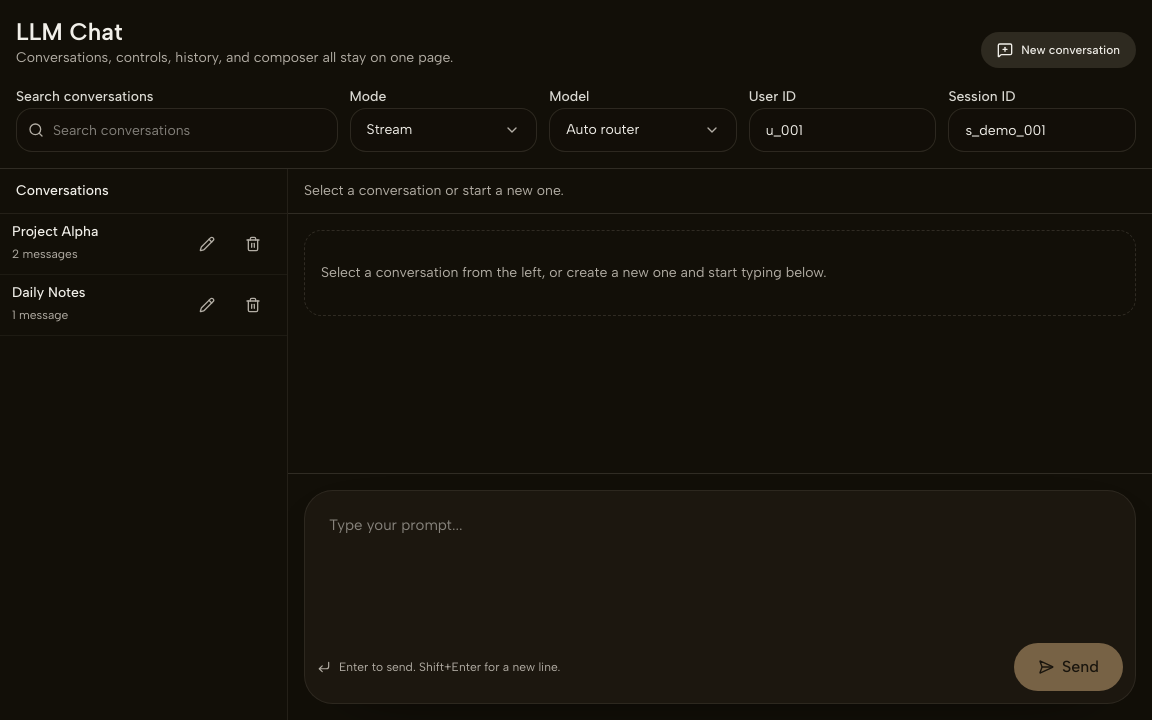
Scenario: App conversation workspace › creates, renames, selects, and deletes conversations from the sidebar
Expected: the text "Project Alpha" is shown, [12,223,98,240]
Click the button "New conversation": (1059, 50) [981,32,1136,68]
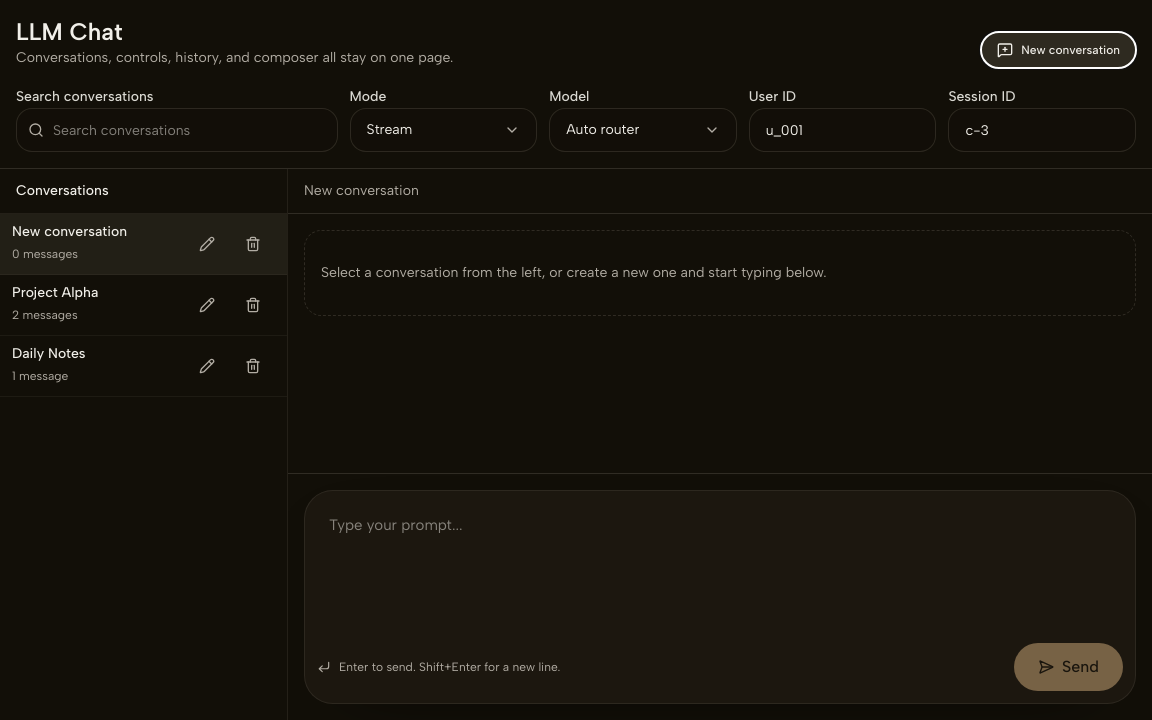
Now the button with aria-label "Open New conversation" is shown, box [12,222,177,262]
Click the button named "rename New conversation": (207, 244) [185,222,229,266]
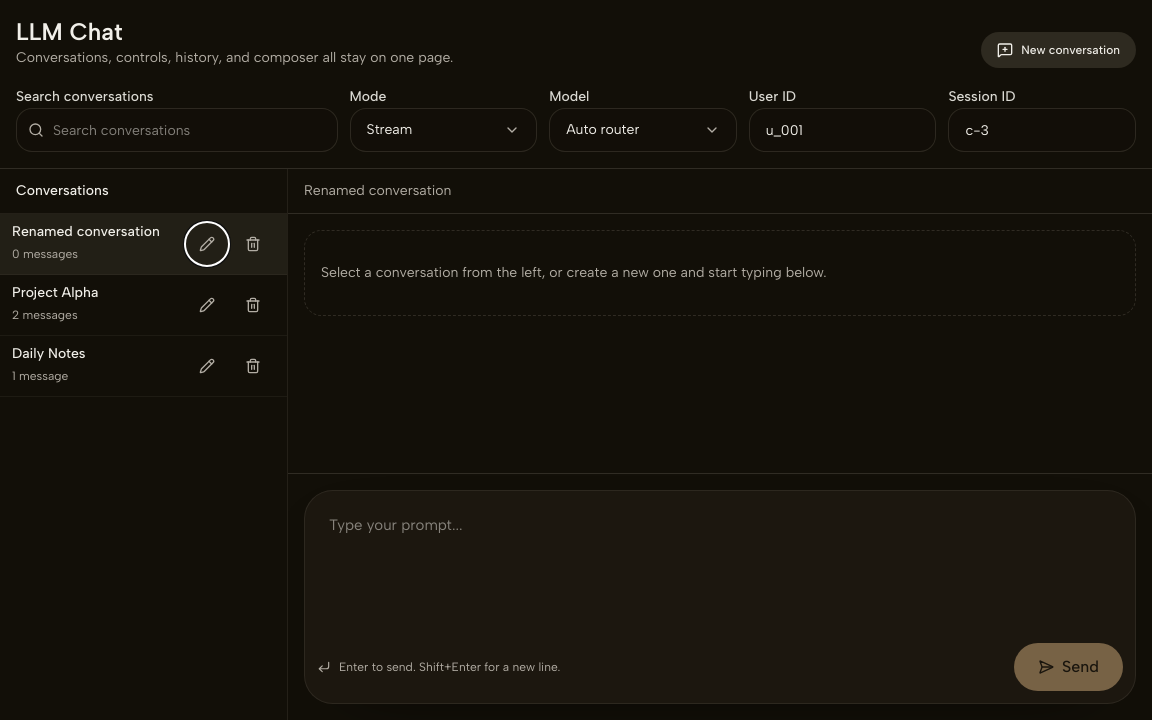
Now the button with aria-label "Open Renamed conversation" is shown, box [12,222,177,262]
Click the button with aria-label "Open Daily Notes": (94, 364) [12,344,177,384]
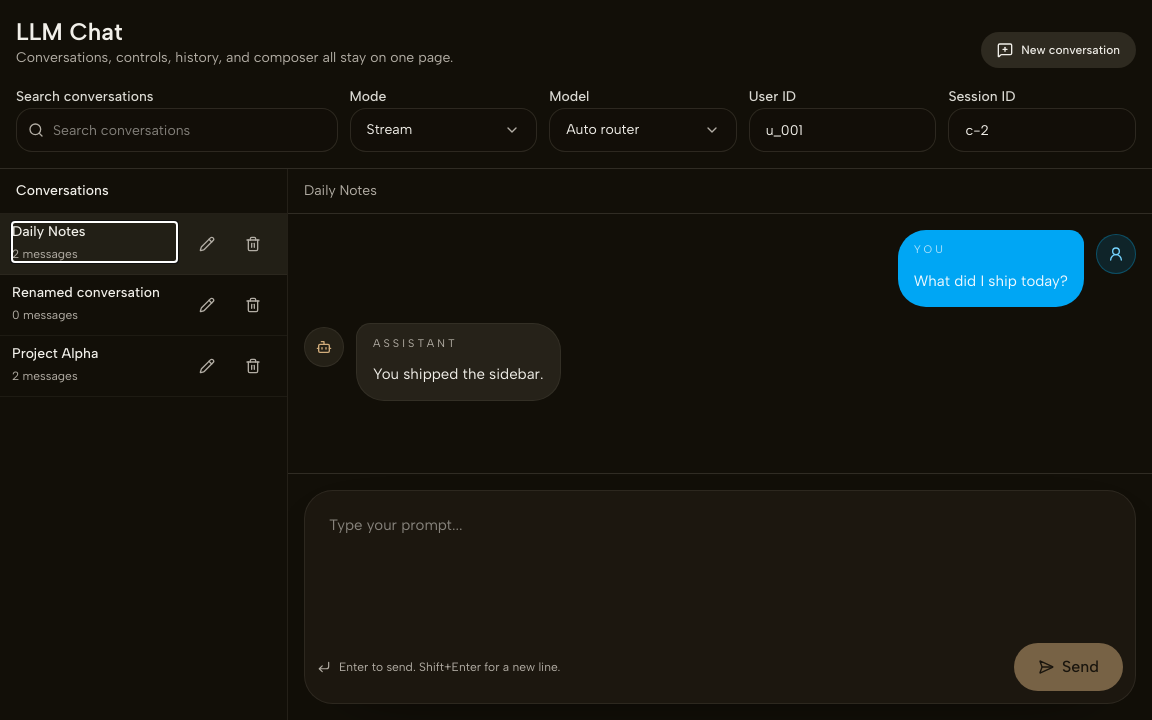
Now the text "You shipped the sidebar." is shown, box [373,360,544,388]
Click the button named "delete Daily Notes": (253, 244) [231,222,275,266]
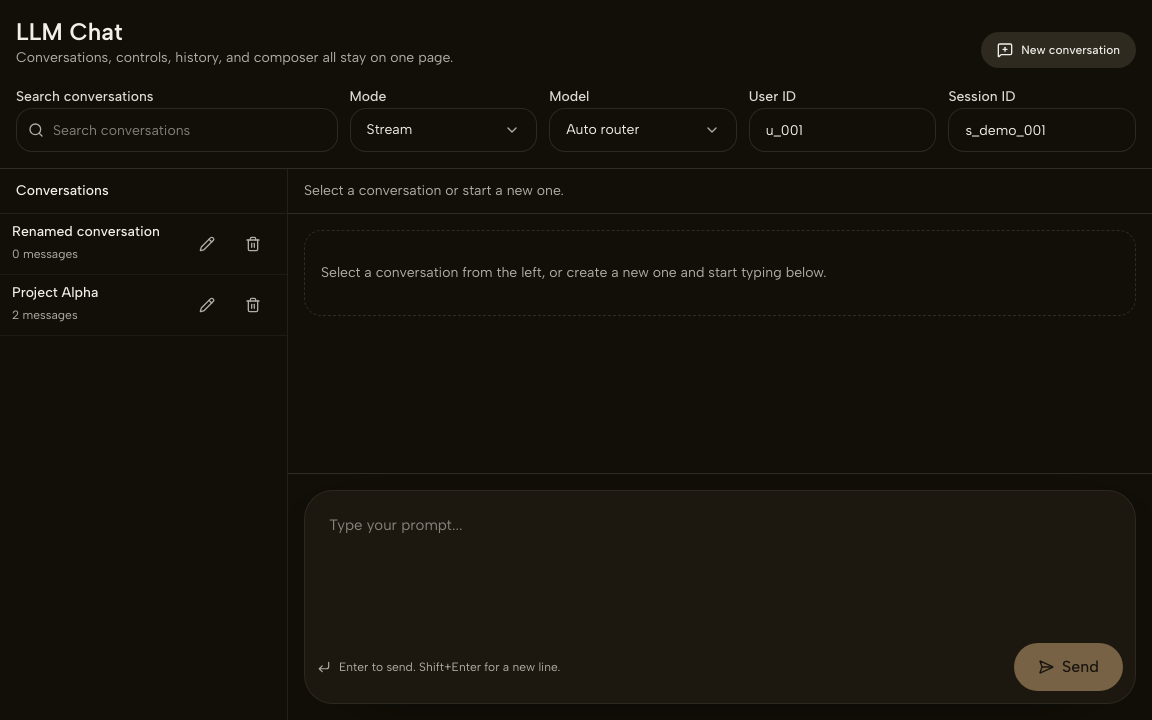
Now the button "Daily Notes" is gone
